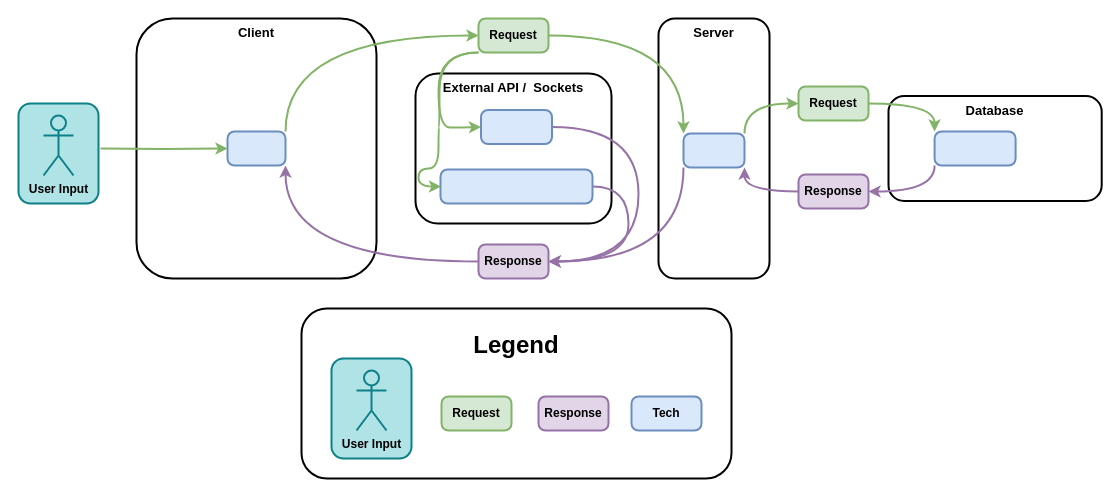
Some shapes in this 1120 by 496 pixel diagram are drawn without their labels. The centre of each missing label's shape, as x and y in pixels:
"Binance" belongs at point (516, 126).
"Express - Node JS" belongs at point (713, 150).
"Mongo DB" belongs at point (974, 148).
"React" belongs at point (256, 148).
"Tradingview Charts" belongs at point (516, 186).
